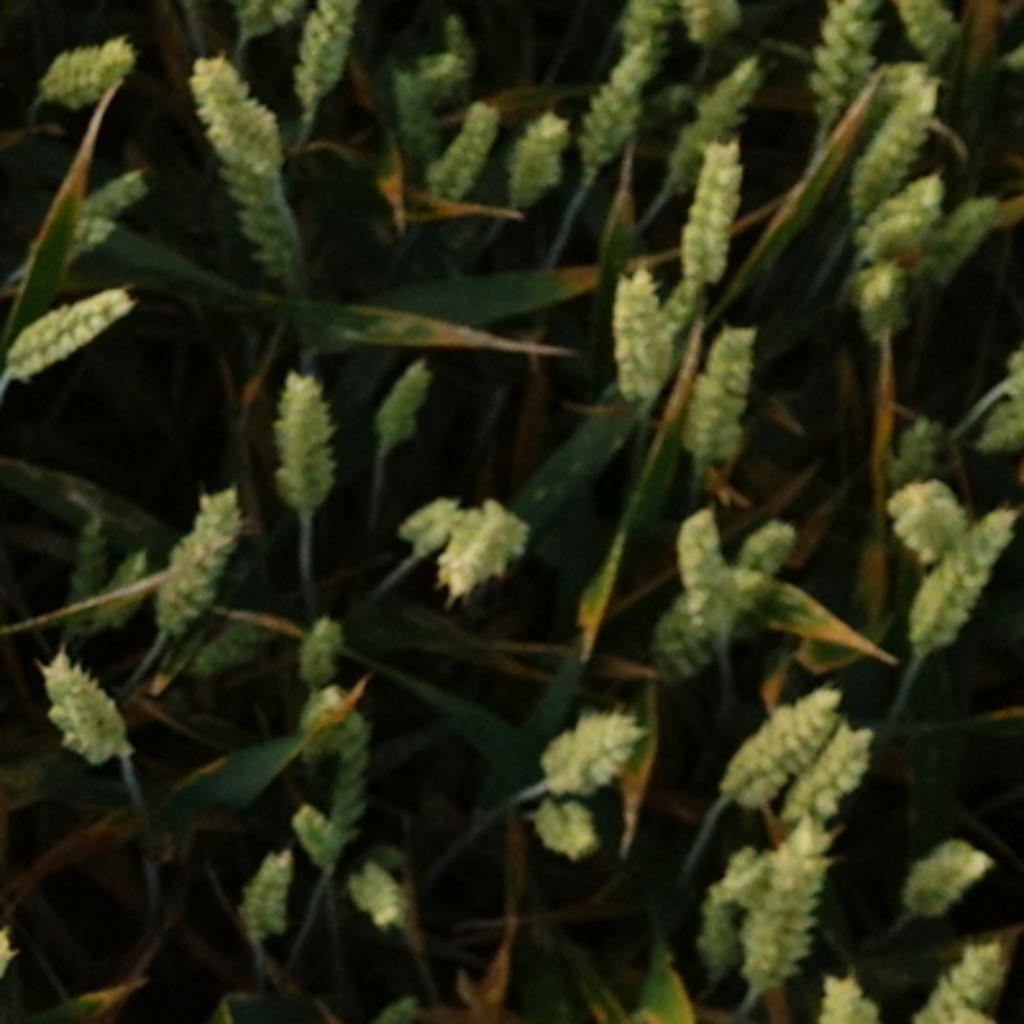0-0: (709, 670, 875, 814), (890, 471, 1013, 647), (826, 35, 947, 212), (284, 678, 386, 860), (140, 478, 256, 632), (665, 35, 762, 209), (588, 253, 696, 407), (215, 136, 313, 305), (0, 274, 143, 388), (736, 825, 832, 994), (665, 117, 752, 294), (184, 43, 286, 182), (571, 41, 671, 182), (775, 712, 875, 842), (529, 688, 647, 798), (675, 314, 762, 460), (30, 656, 135, 776), (261, 355, 345, 504), (867, 463, 973, 581), (275, 0, 372, 122), (801, 2, 898, 122), (645, 512, 737, 637), (893, 936, 1016, 1024), (919, 179, 1003, 304), (847, 156, 947, 258), (440, 499, 535, 606), (441, 97, 513, 232), (30, 23, 143, 104), (896, 819, 993, 911), (366, 343, 445, 448), (95, 523, 162, 646), (680, 878, 745, 999), (232, 832, 307, 936), (54, 164, 159, 238), (522, 791, 609, 870), (507, 119, 581, 211), (289, 593, 353, 698), (64, 506, 110, 647), (381, 486, 471, 555), (184, 611, 273, 680), (390, 73, 452, 172), (803, 960, 890, 1024), (348, 852, 414, 936), (417, 2, 483, 86), (849, 266, 916, 343), (896, 2, 967, 69), (898, 404, 949, 494), (739, 512, 803, 583), (20, 217, 117, 263), (609, 2, 680, 64), (680, 0, 742, 43)
